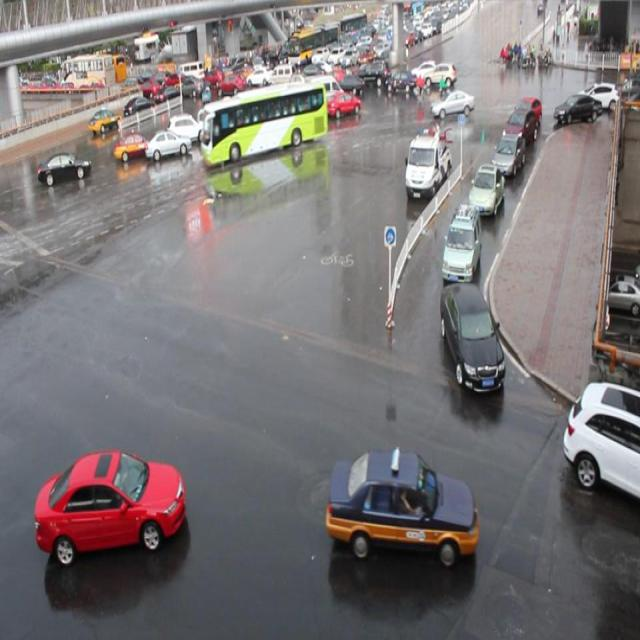bus: (402, 129, 452, 202)
car: (324, 447, 478, 564), (34, 449, 186, 564), (561, 379, 640, 498), (439, 281, 504, 390), (440, 203, 480, 281), (36, 146, 89, 184), (467, 162, 504, 214), (252, 96, 302, 133), (199, 112, 247, 150), (144, 126, 192, 160), (166, 108, 209, 144), (490, 132, 524, 176), (501, 109, 535, 148), (430, 88, 473, 118), (113, 129, 153, 158), (326, 90, 361, 119), (517, 94, 543, 132)
truck: (295, 75, 337, 115), (228, 90, 271, 128)
van: (202, 82, 325, 163)
